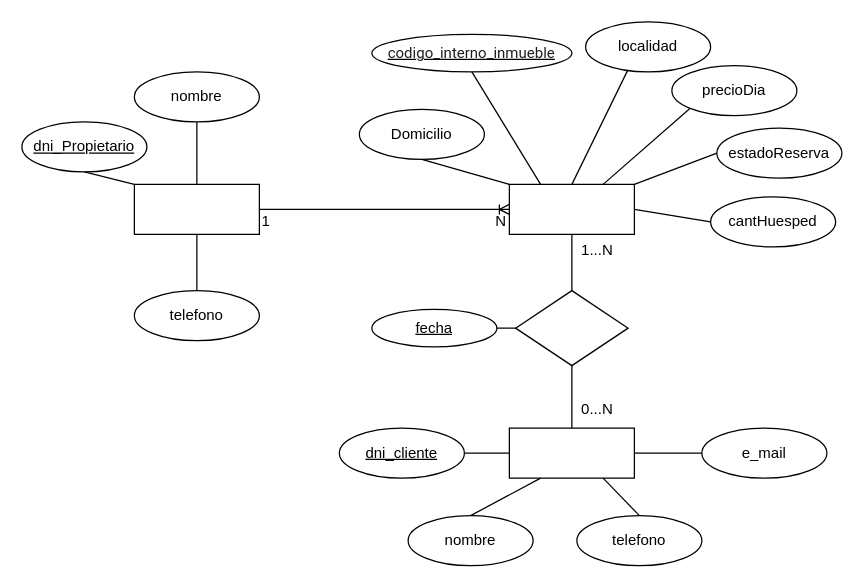
This 864x588 diagram has some shape labels left out. The centre of each missing label's shape, as x and y in pixels:
"CLIENTE" goes at point 571,452.
"INMUEBLE" goes at point 571,208.
"PROPIETARIO" goes at point 196,208.
"reserva" goes at point 571,327.
